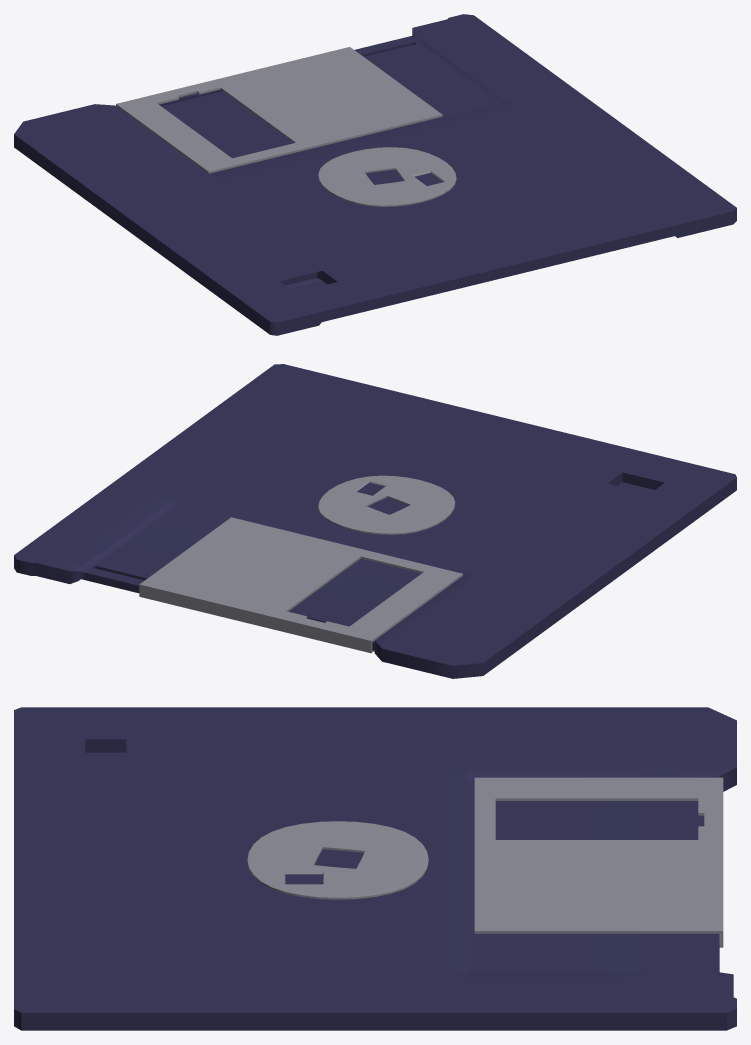
The model's file is floppy.fbx.
3 renders of one model, top to bottom at view 1: azimuth 30°, elevation 25°; view 2: azimuth 150°, elevation 25°; view 3: azimuth 270°, elevation 25°, orthographic. The views are drawn at different scales.
Parts seen in each view (by area): view 1: pCube156; view 2: pCube156; view 3: pCube156.
Boxes of the visible parts, left/top/right/bottom form: pCube156: left=14, top=14, right=736, bottom=335; pCube156: left=14, top=364, right=736, bottom=678; pCube156: left=14, top=707, right=736, bottom=1030.
Size of the model in its own units: 2.51 by 0.0755 by 2.51.
Materials: 1 (1 with a texture image).
